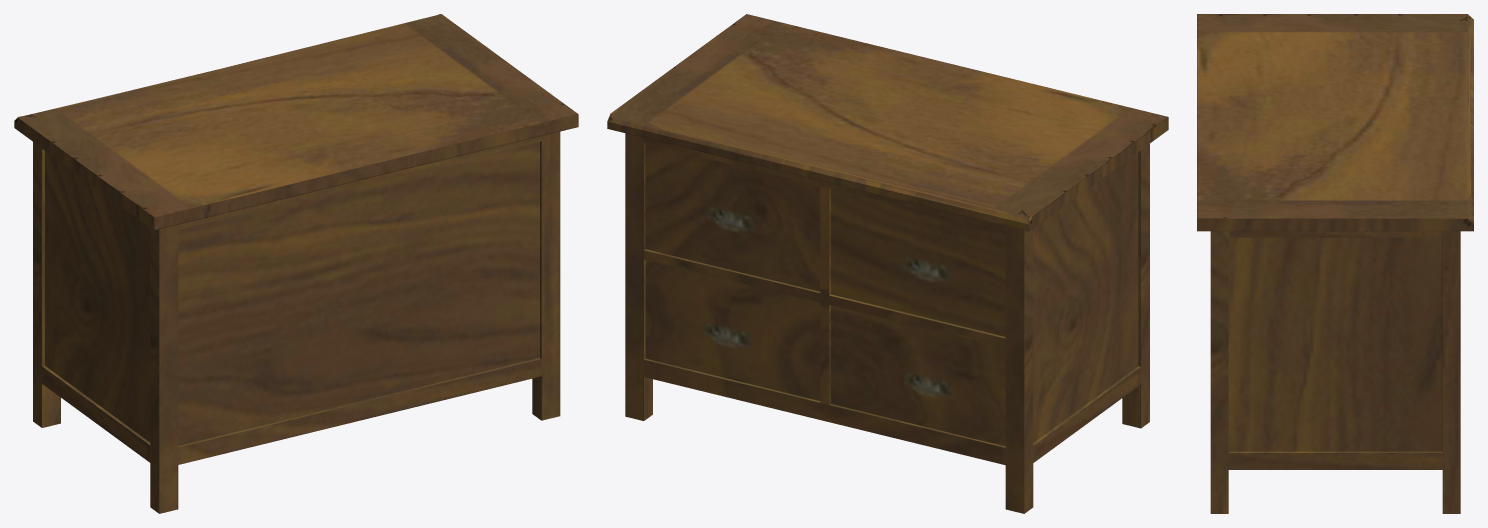
Rendered from Chestofdrawers.FBX.
3 renders of one model, left to right at view 1: azimuth 30°, elevation 25°; view 2: azimuth 150°, elevation 25°; view 3: azimuth 270°, elevation 25°, orthographic.
Parts seen in each view (by area): view 1: ChestofDrawers; view 2: ChestofDrawers; view 3: ChestofDrawers.
Part boxes in pixels (bbox=[...]): ChestofDrawers: bbox=[14, 14, 578, 513]; ChestofDrawers: bbox=[607, 14, 1168, 513]; ChestofDrawers: bbox=[1197, 14, 1473, 513].
Bounding box in the file's own units: 151 × 103 × 86.23.
